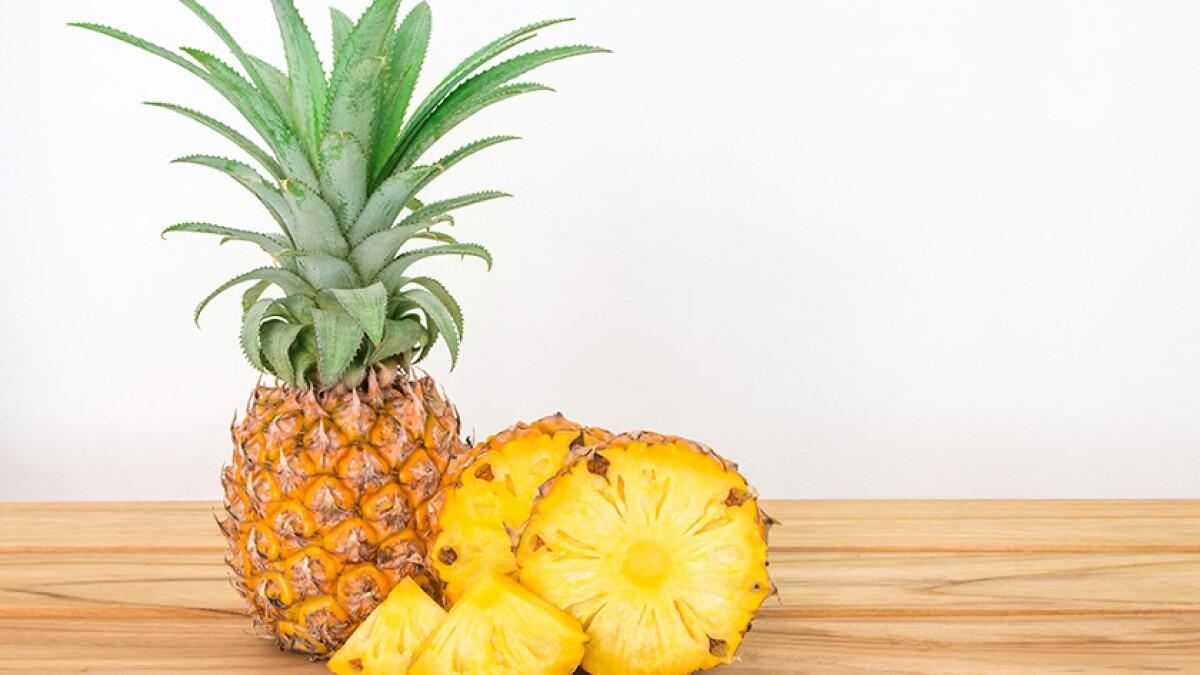pineapple: (50, 0, 458, 675), (516, 427, 780, 675)
